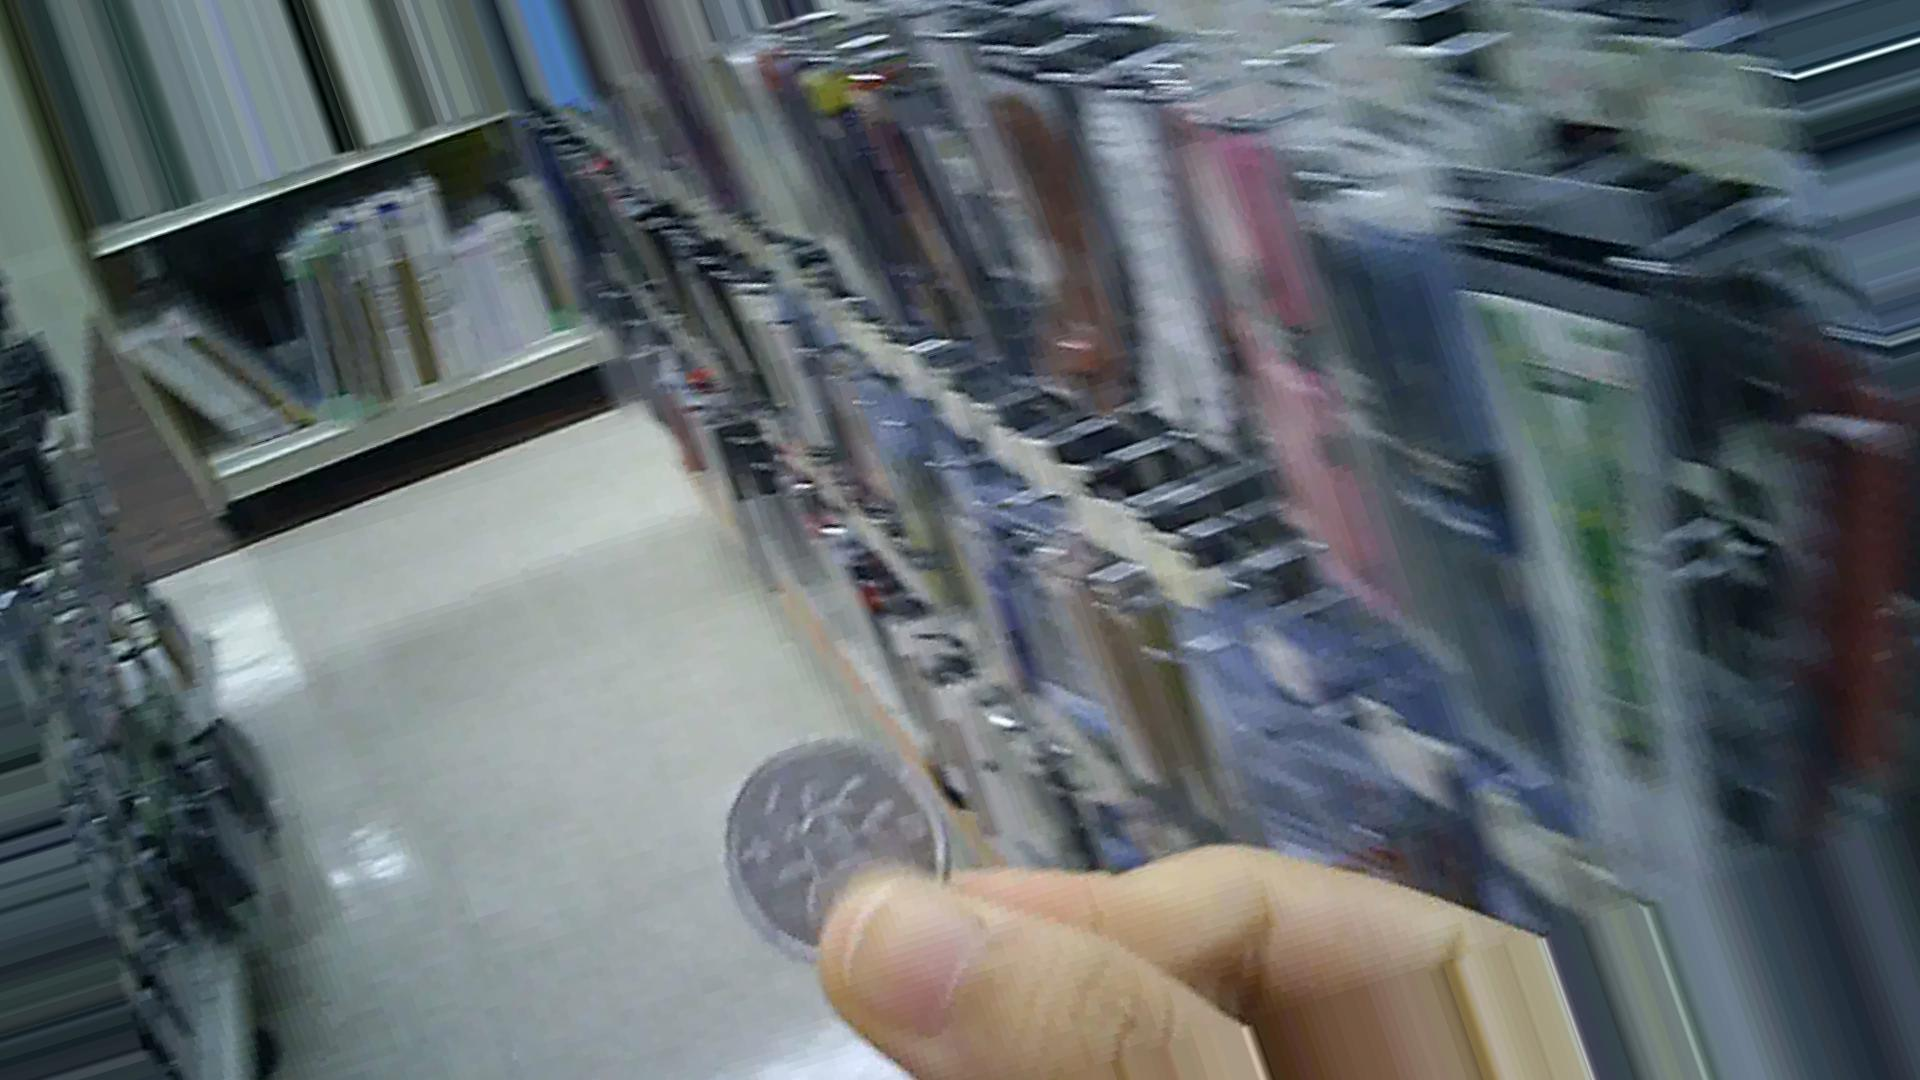1 Yen: (713, 732, 959, 963)
